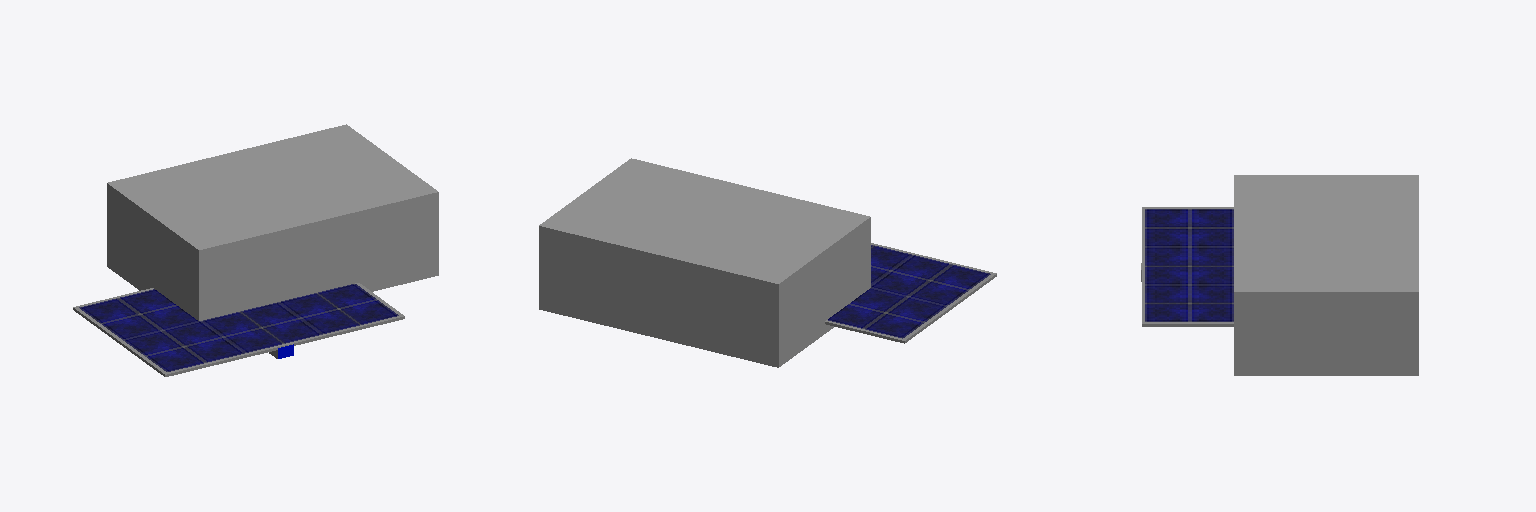
3 renders of one model, left to right at view 1: azimuth 30°, elevation 25°; view 2: azimuth 150°, elevation 25°; view 3: azimuth 270°, elevation 25°, orthographic.
Visible parts, largest first — view 1: main, Minecraft_Block_Cube, Minecraft_Block.005_Cube.005, Minecraft_Block.004_Cube.004, Minecraft_Block.001_Cube.001, Minecraft_Block.002_Cube.002, Minecraft_Block.003_Cube.003; view 2: Minecraft_Block.001_Cube.001, Minecraft_Block.003_Cube.003, Minecraft_Block.002_Cube.002, main, Minecraft_Block_Cube, Minecraft_Block.004_Cube.004, Minecraft_Block.005_Cube.005; view 3: Minecraft_Block.003_Cube.003, Minecraft_Block.005_Cube.005, main, Minecraft_Block.002_Cube.002, Minecraft_Block.001_Cube.001, Minecraft_Block.004_Cube.004, Minecraft_Block_Cube.
Boxes of the visible parts, box(x1,y1,x2,y2) form: main: box(73, 283, 404, 376); Minecraft_Block_Cube: box(153, 197, 278, 320); Minecraft_Block.005_Cube.005: box(313, 158, 438, 291); Minecraft_Block.004_Cube.004: box(233, 178, 358, 301); Minecraft_Block.001_Cube.001: box(107, 163, 231, 290); Minecraft_Block.002_Cube.002: box(187, 144, 312, 196); Minecraft_Block.003_Cube.003: box(268, 124, 391, 176); Minecraft_Block.001_Cube.001: box(699, 231, 824, 367); Minecraft_Block.003_Cube.003: box(539, 192, 664, 328); Minecraft_Block.002_Cube.002: box(619, 212, 743, 347); main: box(825, 243, 996, 343); Minecraft_Block_Cube: box(746, 197, 870, 333); Minecraft_Block.004_Cube.004: box(665, 178, 790, 230); Minecraft_Block.005_Cube.005: box(586, 158, 709, 210); Minecraft_Block.003_Cube.003: box(1326, 253, 1418, 375); Minecraft_Block.005_Cube.005: box(1234, 253, 1325, 375); main: box(1141, 207, 1233, 326); Minecraft_Block.002_Cube.002: box(1326, 214, 1418, 252); Minecraft_Block.001_Cube.001: box(1326, 175, 1418, 213); Minecraft_Block.004_Cube.004: box(1234, 214, 1325, 252); Minecraft_Block_Cube: box(1234, 175, 1325, 213).
Size of the model in its own units: 4 by 1 by 3.
2 materials, 1 textured.